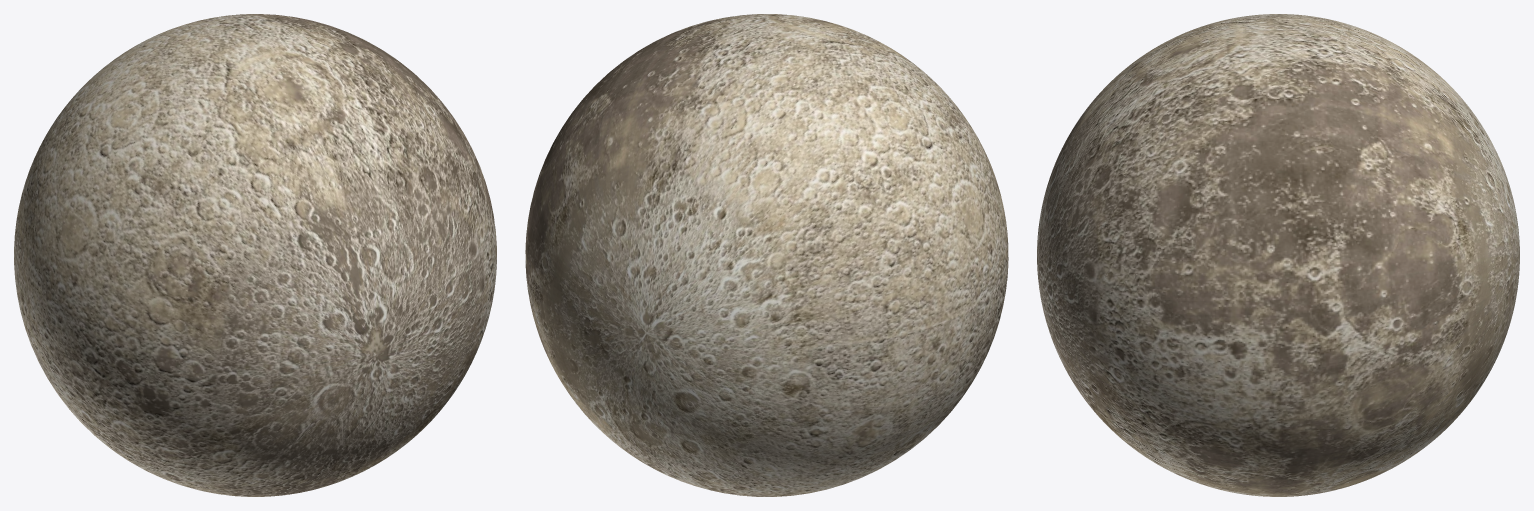
File: moon.fbx
The picture shows the model from 3 angles, left to right: view 1: azimuth 30°, elevation 25°; view 2: azimuth 150°, elevation 25°; view 3: azimuth 270°, elevation 25°; orthographic projection.
Visible parts, largest first — view 1: Moon; view 2: Moon; view 3: Moon.
Boxes of the visible parts, x1,y1,x2,y2 form: Moon: (14,14,496,496); Moon: (525,14,1008,496); Moon: (1037,14,1519,496).
Bounding box in the file's own units: 1600 × 1600 × 1600.
1 material, 1 textured.
